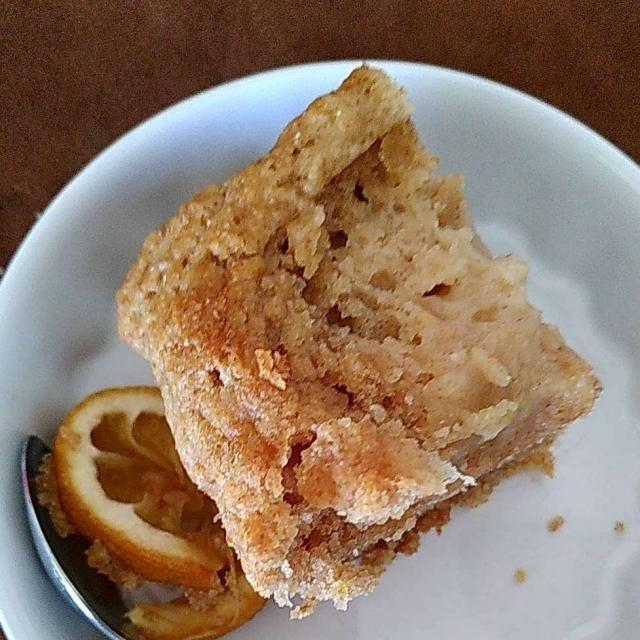cake: (45, 72, 601, 627)
